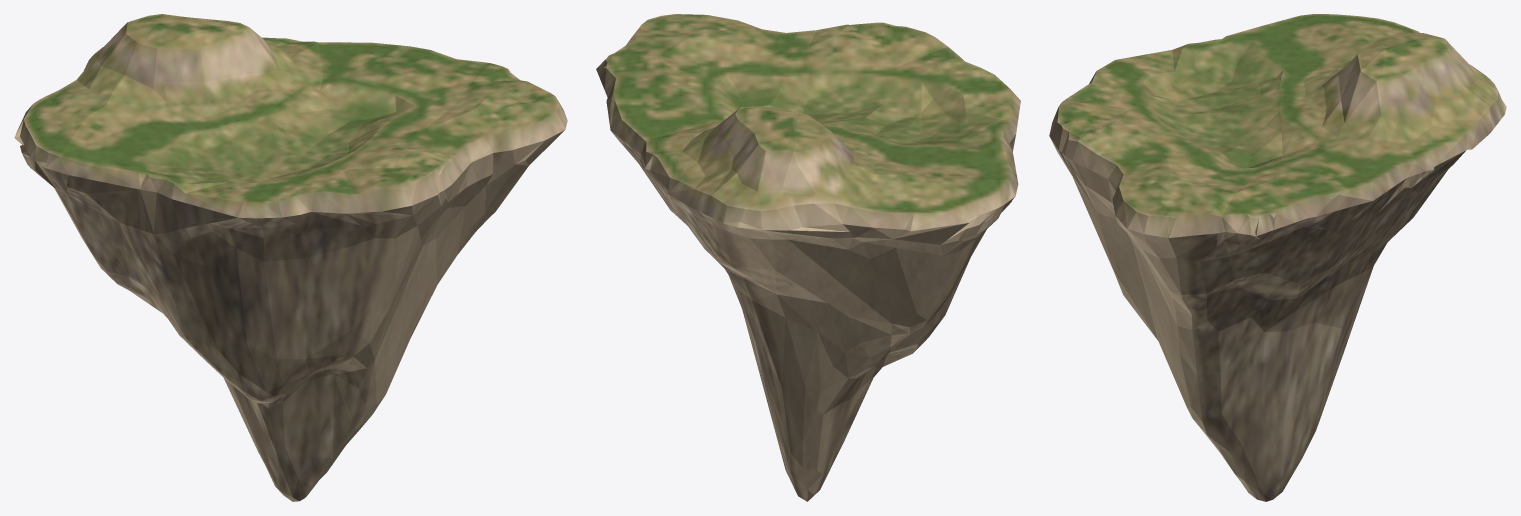
File: island_2b.glb
3 views of the same model, side by side, from view 1: azimuth 30°, elevation 25°; view 2: azimuth 150°, elevation 25°; view 3: azimuth 270°, elevation 25° (orthographic).
Parts seen in each view (by area): view 1: Island_2_2_island_2_mat_0_8; view 2: Island_2_2_island_2_mat_0_8; view 3: Island_2_2_island_2_mat_0_8.
Boxes of the visible parts, box(x1,y1,x2,y2) form: Island_2_2_island_2_mat_0_8: box(14, 14, 567, 501); Island_2_2_island_2_mat_0_8: box(596, 14, 1020, 501); Island_2_2_island_2_mat_0_8: box(1049, 14, 1506, 501).
Size of the model in its own units: 4 by 3.72 by 3.57.
1 material, 1 textured.
